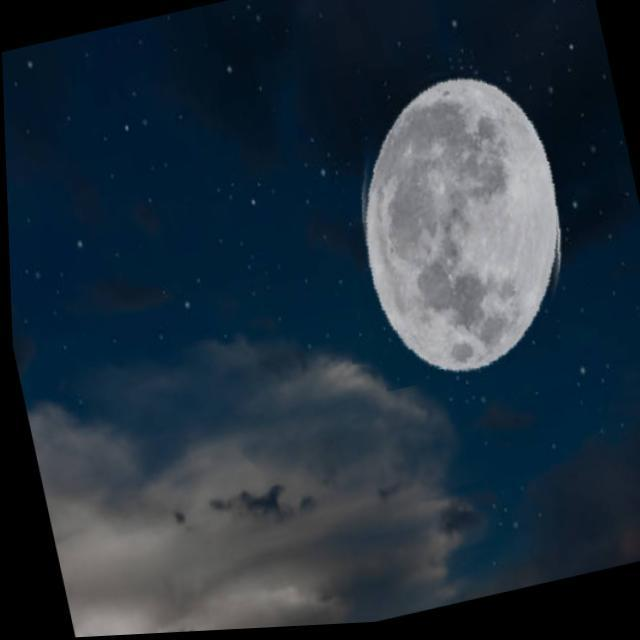moon: (306, 41, 592, 400)
